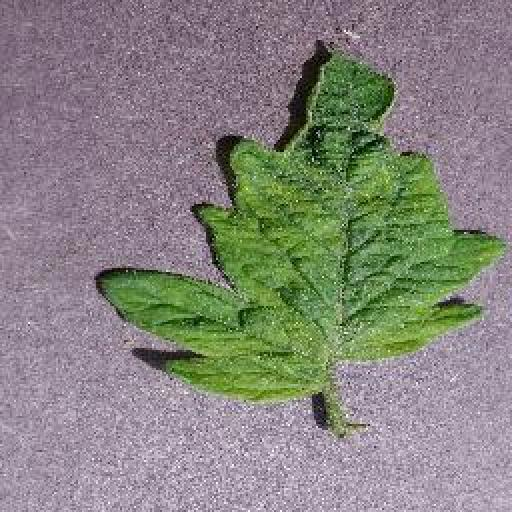Mosaic Virus: (95, 44, 509, 404)
